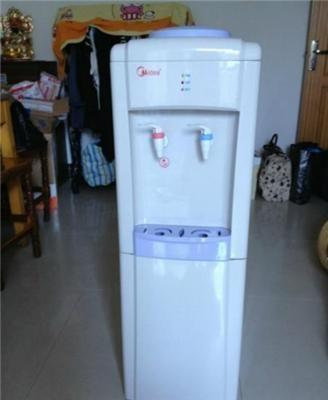Dispenser: (107, 25, 262, 399)
